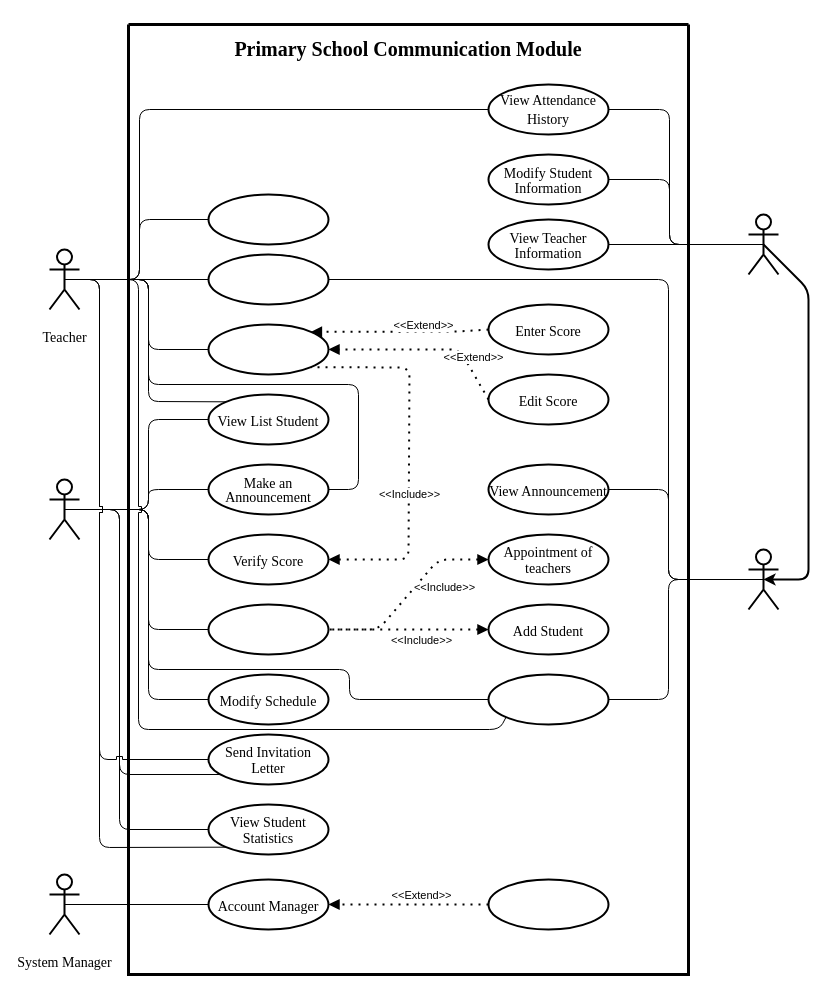
Image size: 834x1001. Some labels were removed from this diagram. Here are the shapes that lost their labels. From the top down, the centre of each, then its label:
At point 268,219: "Check Attendance".
At point 763,244: "Parent".
At point 268,279: "View score sheet".
At point 268,349: "Modify Score Sheet".
At point 64,509: "Principal".
At point 763,579: "Student".
At point 268,629: "Create Class".
At point 548,699: "View Schedule".
At point 548,904: "Reset Password".
